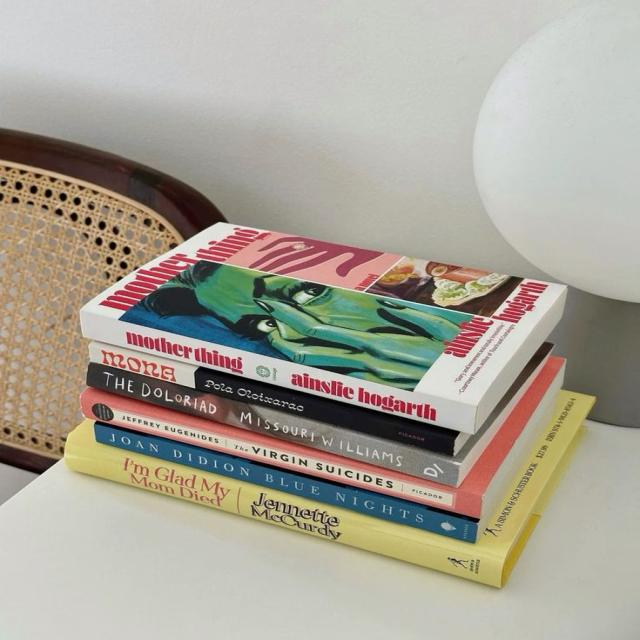book: (67, 435, 502, 588), (83, 390, 485, 521), (82, 309, 477, 433), (85, 363, 458, 488), (95, 423, 479, 542), (91, 344, 456, 458)
